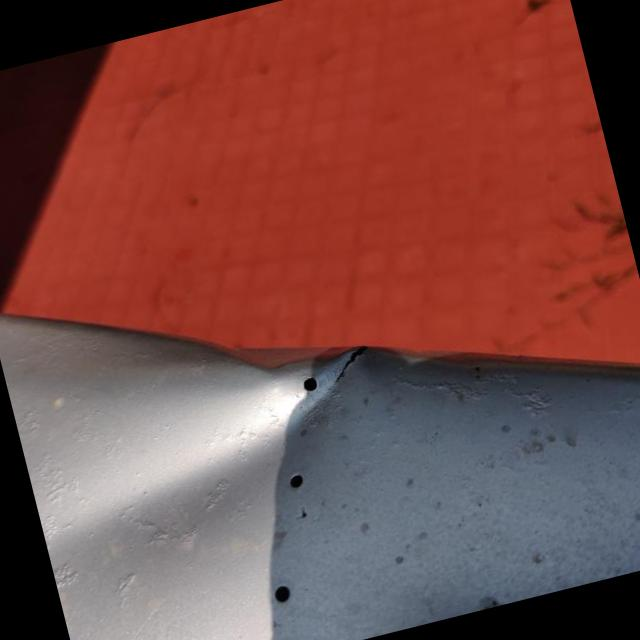Crack: (323, 345, 376, 388)
Dent: (19, 319, 365, 526)
